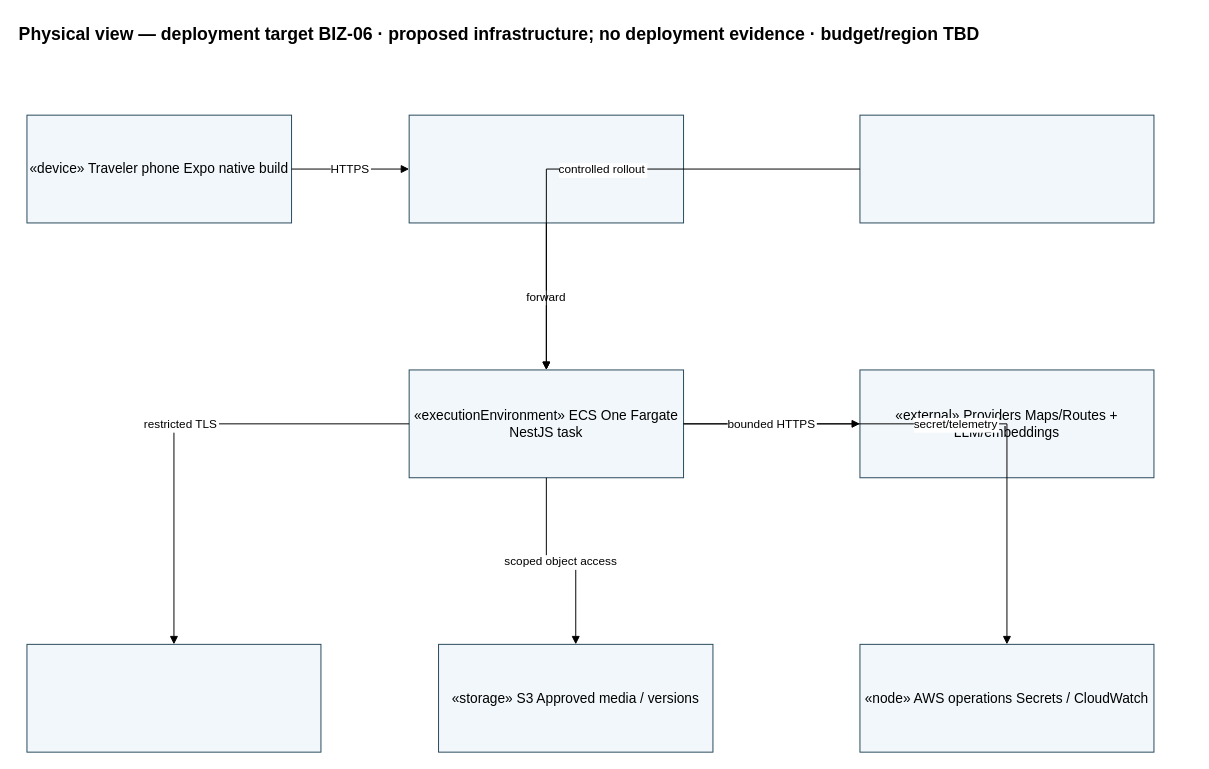
Some shapes in this 1209 by 769 pixel diagram are drawn without their labels. Each missing label, with the box of its shape:
«database» Private RDS PostgreSQL + extensions: (26, 643, 321, 752)
«node» GitHub Actions/ECR Reviewed image / migration: (859, 114, 1154, 223)
«node» HTTPS ingress Certificate / ALB: (408, 114, 684, 223)
